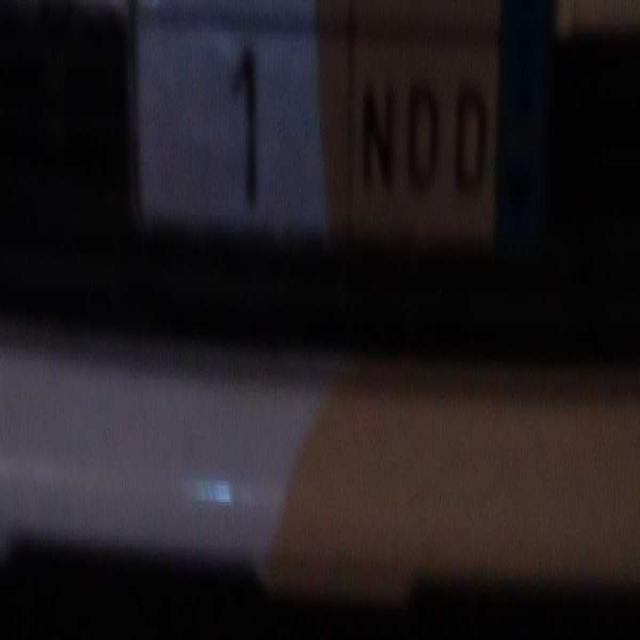license_plate: (144, 16, 499, 236)
